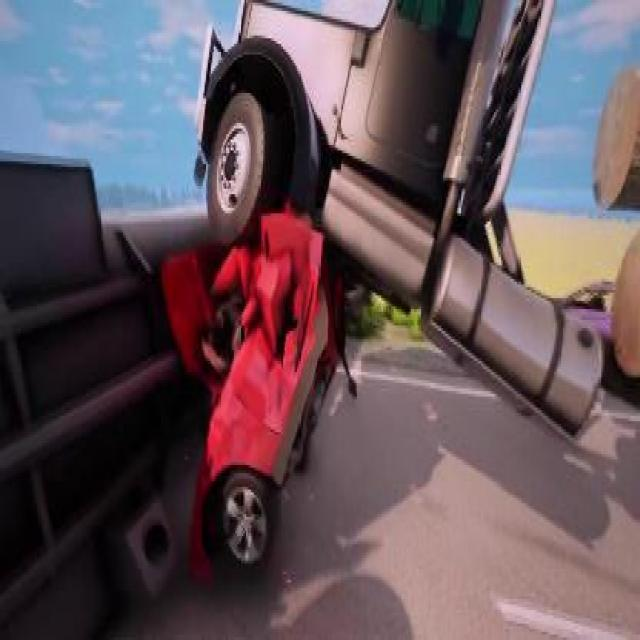accident: (0, 0, 620, 637)
